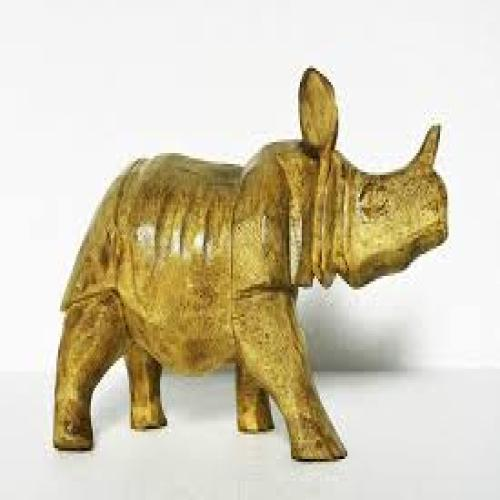rhino-endangered: (55, 75, 448, 453)
